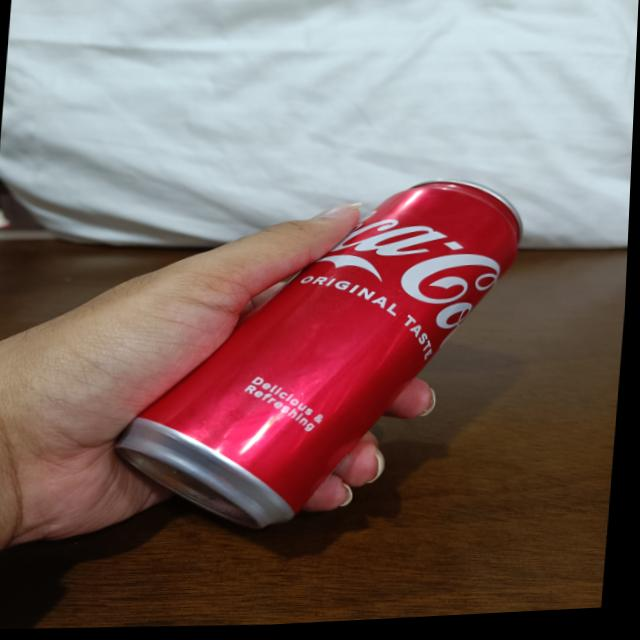coke: (112, 172, 527, 543)
